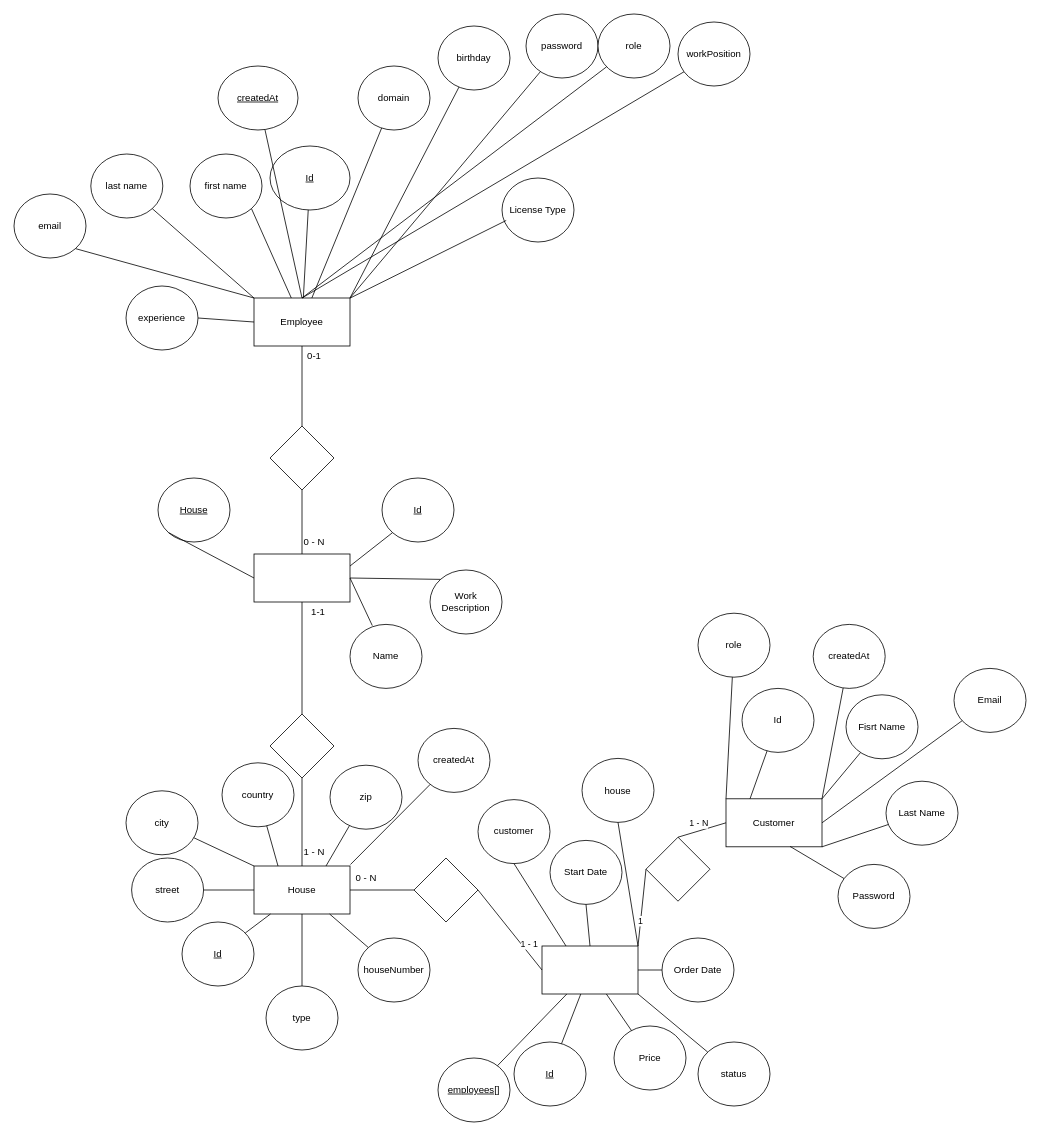
This 1040x1136 diagram has some shape labels left out. The centre of each missing label's shape, as x and y in pixels:
"Assigned" belongs at pixel 301 457.
"Creates" belongs at pixel 677 868.
"For" belongs at pixel 445 889.
"Has" belongs at pixel 301 745.
"Order" belongs at pixel 589 969.
"Room" belongs at pixel 301 577.
